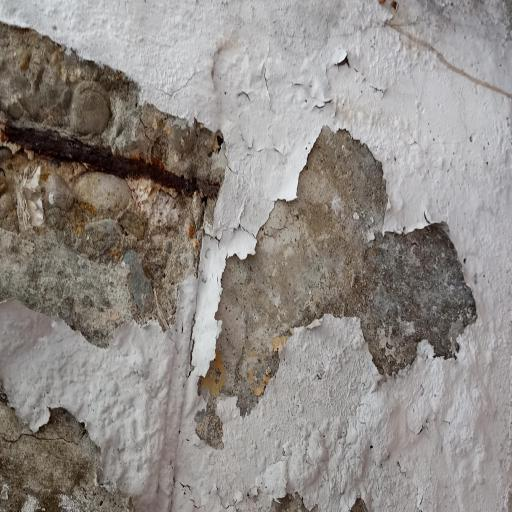exposed_rebar: (4, 124, 219, 197)
spalling: (195, 128, 476, 448), (0, 22, 222, 344), (0, 390, 133, 512), (270, 493, 318, 512), (349, 498, 368, 512)
